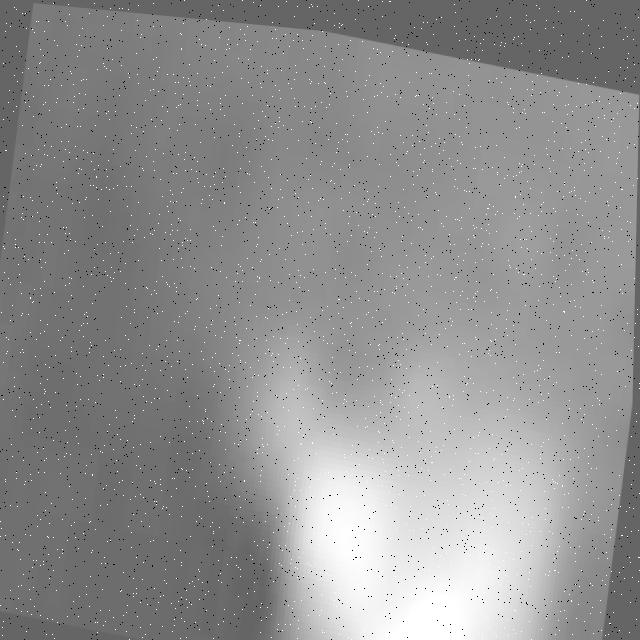person: (264, 296, 589, 640)
